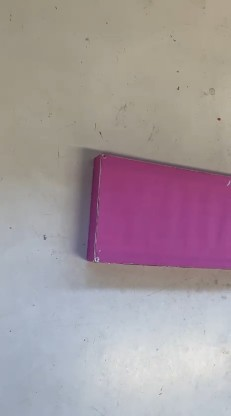pink: (68, 164, 225, 263)
